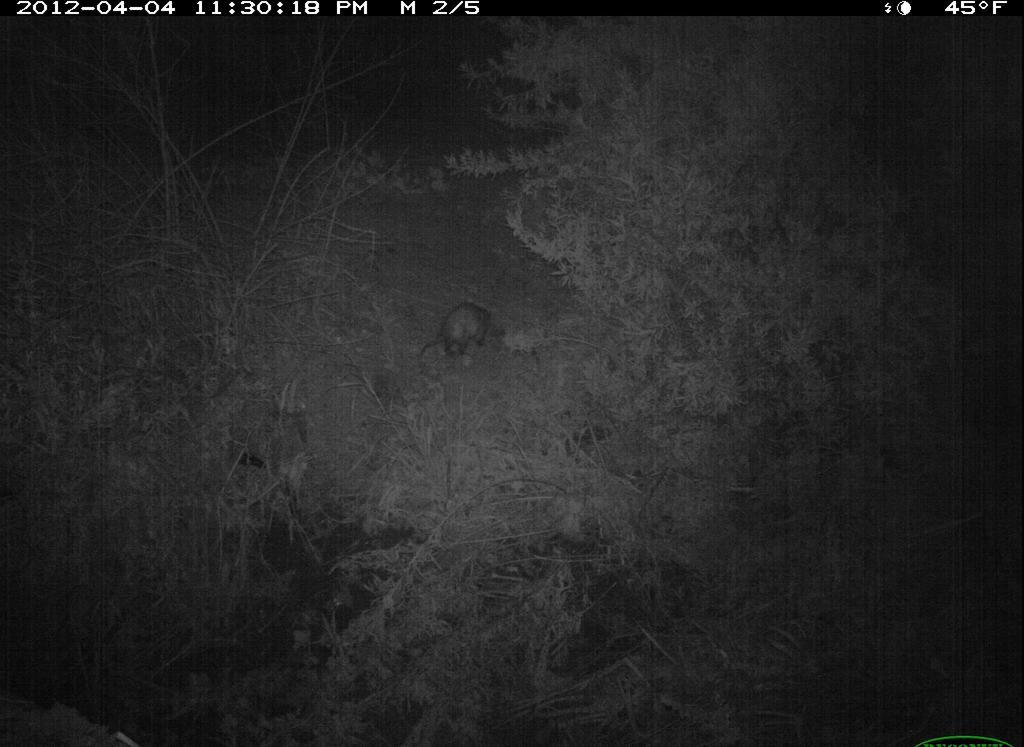opossum: (399, 289, 516, 379)
